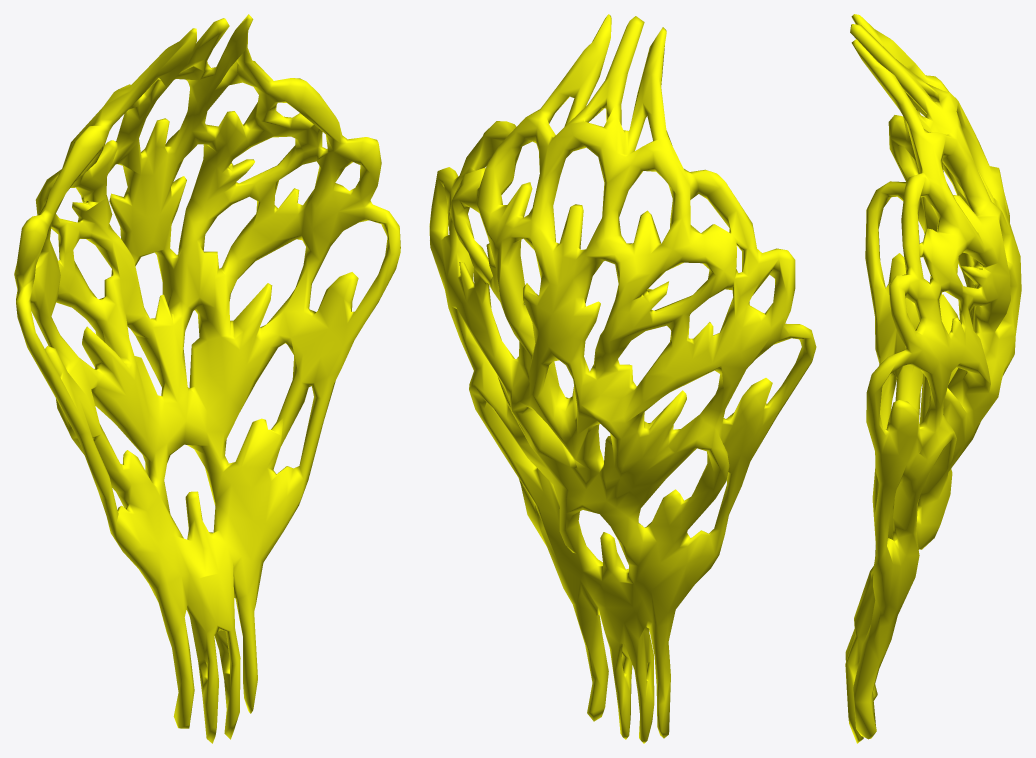
Rendered from shield.glb.
3 renders of one model, left to right at view 1: azimuth 30°, elevation 25°; view 2: azimuth 150°, elevation 25°; view 3: azimuth 270°, elevation 25°, orthographic.
Visible parts, largest first — view 1: amzon braid sym OTHER 01; view 2: amzon braid sym OTHER 01; view 3: amzon braid sym OTHER 01.
Part boxes in pixels (<box>): amzon braid sym OTHER 01: <box>14,14,400,743</box>; amzon braid sym OTHER 01: <box>429,14,816,743</box>; amzon braid sym OTHER 01: <box>845,14,1021,743</box>.
Bounding box in the file's own units: 1.3 × 2.37 × 0.5283.
1 material, 1 textured.
